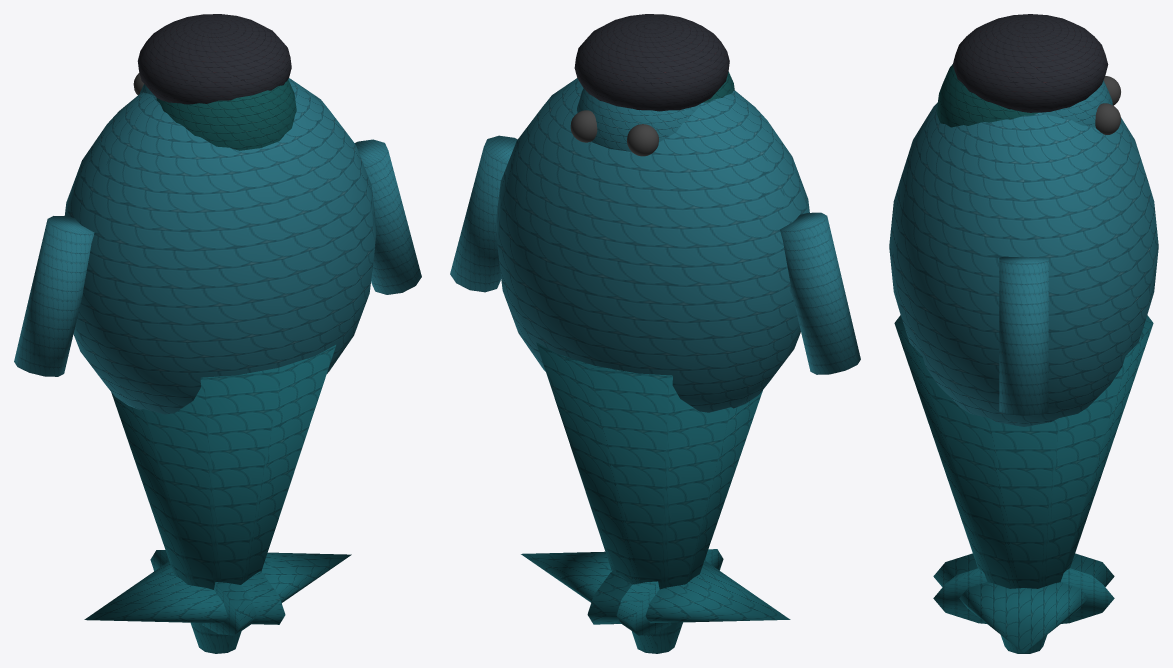
Rendered from merrow.glb.
The picture shows the model from 3 angles, left to right: view 1: azimuth 30°, elevation 25°; view 2: azimuth 150°, elevation 25°; view 3: azimuth 270°, elevation 25°; orthographic projection.
Parts seen in each view (by area): view 1: Torso, Tail, Cap, Arm, TailFin, HairStrands, Arm.001, TailFin.001; view 2: Torso, Tail, Cap, Arm, TailFin, Arm.001, TailFin.001, Head, Eye, Eye.001; view 3: Torso, Tail, Cap, Arm.001, TailFin.001, TailFin, HairStrands, Head, Eye.001.
Boxes of the visible parts, x1,y1,x2,y2 form: Torso: [64, 78, 376, 414]; Tail: [111, 345, 335, 653]; Cap: [137, 14, 291, 104]; Arm: [14, 216, 94, 376]; TailFin: [84, 562, 285, 624]; HairStrands: [156, 79, 296, 150]; Arm.001: [355, 139, 421, 294]; TailFin.001: [150, 550, 351, 635]; Torso: [495, 78, 809, 412]; Tail: [536, 342, 762, 653]; Cap: [574, 14, 729, 111]; Arm: [780, 212, 860, 374]; TailFin: [587, 561, 790, 624]; Arm.001: [450, 135, 517, 292]; TailFin.001: [521, 549, 723, 635]; Head: [577, 88, 700, 151]; Eye: [627, 124, 658, 156]; Eye.001: [570, 110, 597, 142]; Torso: [889, 103, 1158, 426]; Tail: [894, 315, 1153, 653]; Cap: [952, 14, 1108, 112]; Arm.001: [999, 256, 1048, 415]; TailFin.001: [933, 553, 1114, 652]; TailFin: [933, 568, 1114, 623]; HairStrands: [936, 64, 1038, 127]; Head: [1041, 80, 1112, 127]; Eye.001: [1095, 103, 1121, 134].
Size of the model in its own units: 0.7174 by 1.06 by 0.416.
5 materials, 4 textured.
